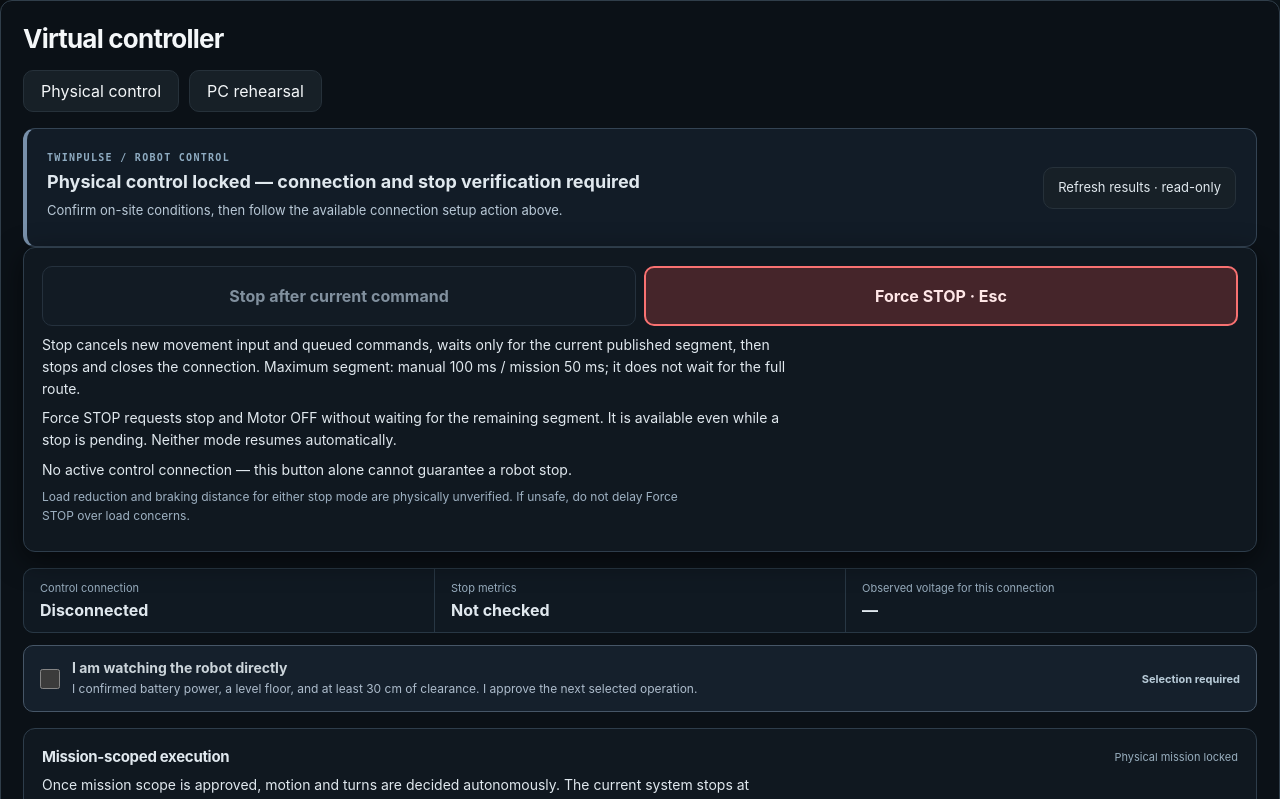
manual console › unmount closes only the mock session
The image size is (1280, 799).
Step 1. Click the button "PC rehearsal" → [256, 91], box [189,70,322,112]
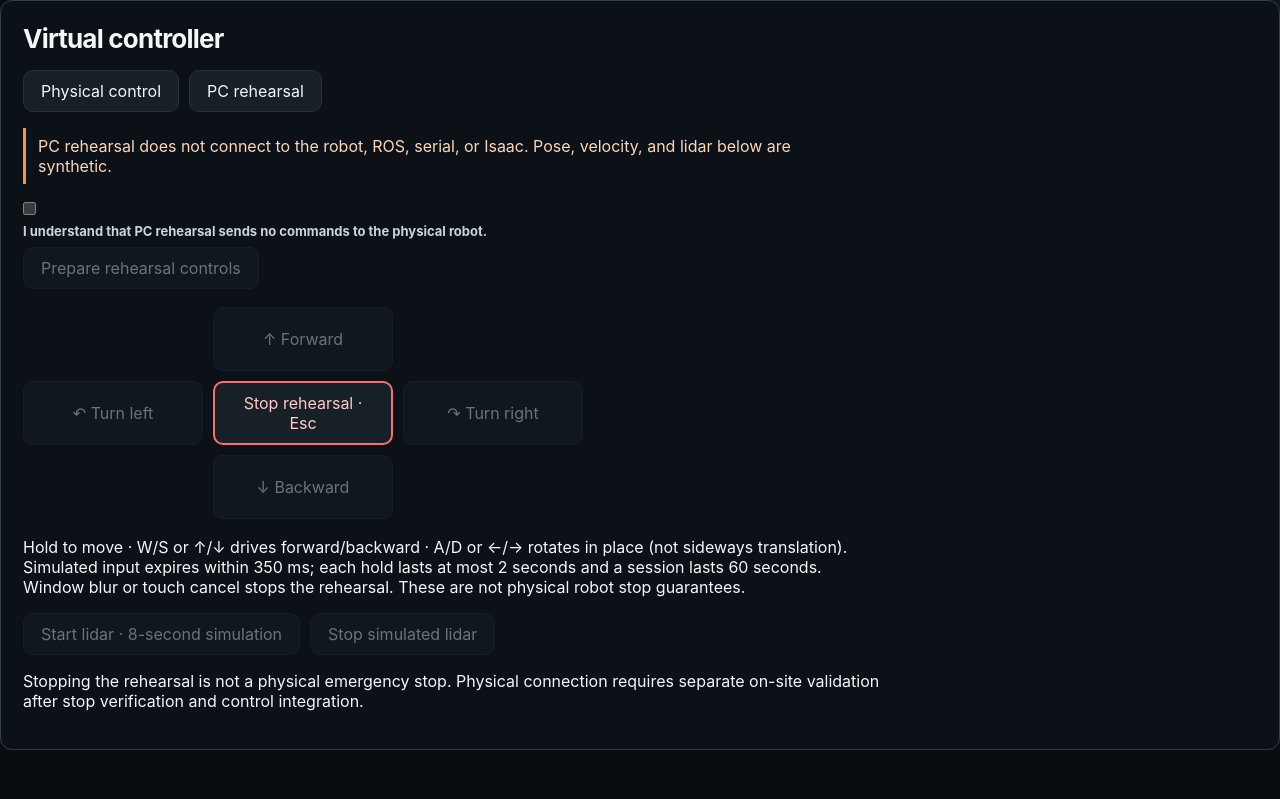
Step 2. Click the checkbox → [30, 208], box [23,202,36,215]
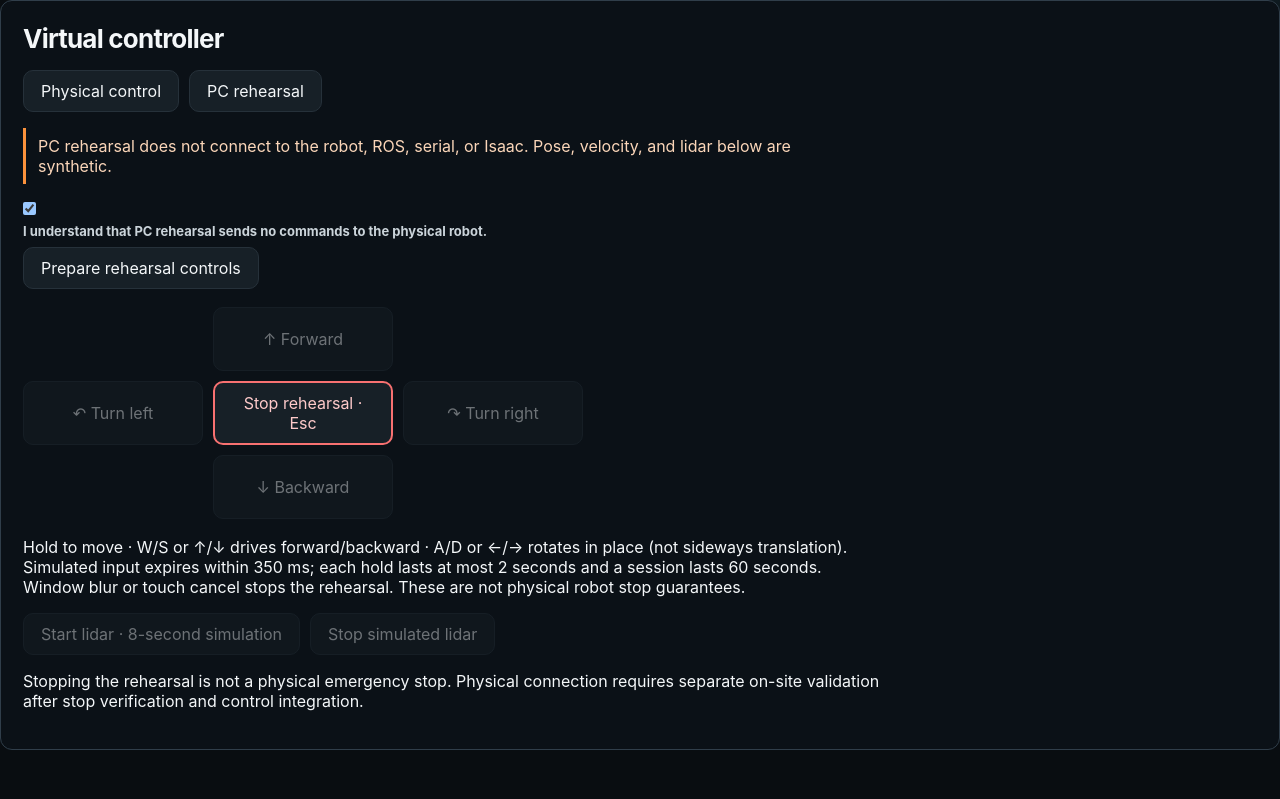
Step 3. Click the button "Prepare rehearsal controls" → [141, 268], box [23,247,259,289]
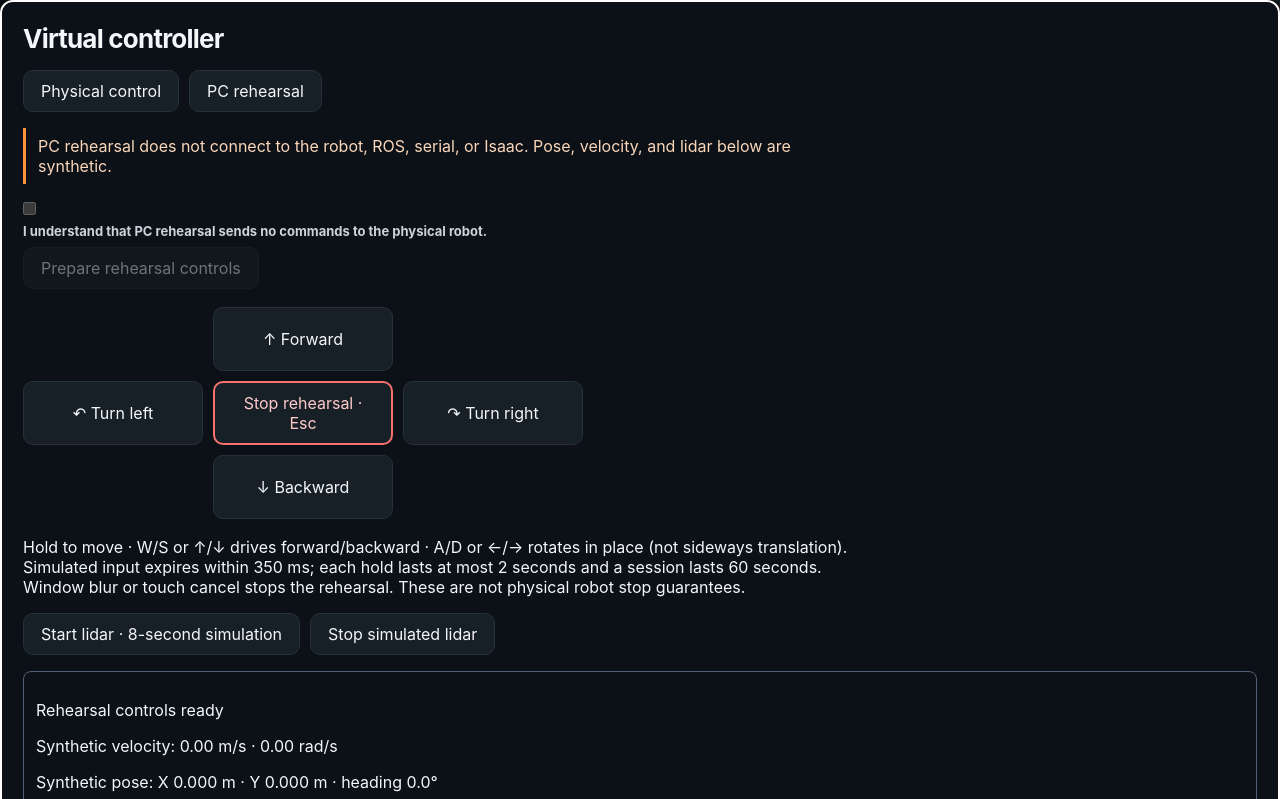
Expected: the button "↑ Forward" is enabled, [213,307,393,371]
